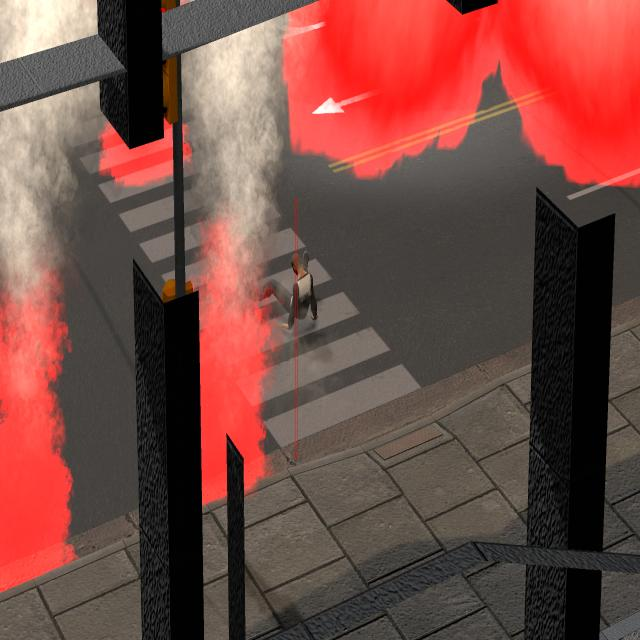Human: (252, 241, 322, 335)
